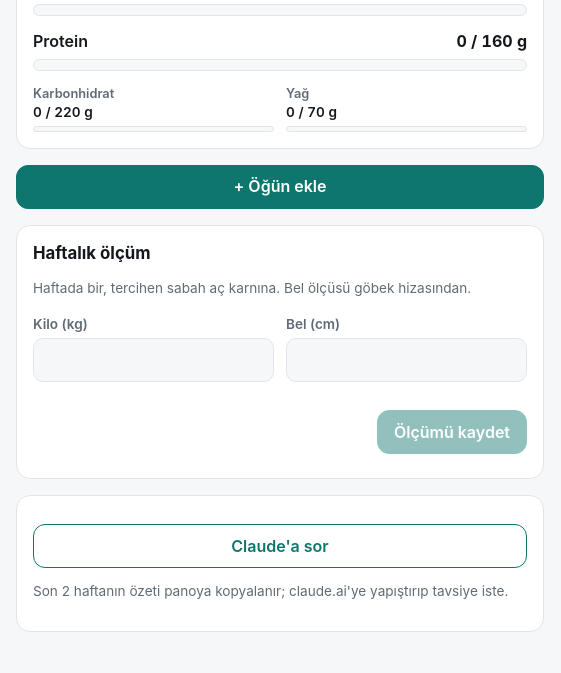
Test: akla yatkın olmayan kilo kaydedilemez ve uyarı gösterilir
(page scrolled)
Expected: the heading "Haftalık ölçüm" is shown, [33, 243, 150, 263]
Type "785" into the field labelled "Kilo (kg)".
click(154, 360); type("785")  # box [33, 338, 274, 382]
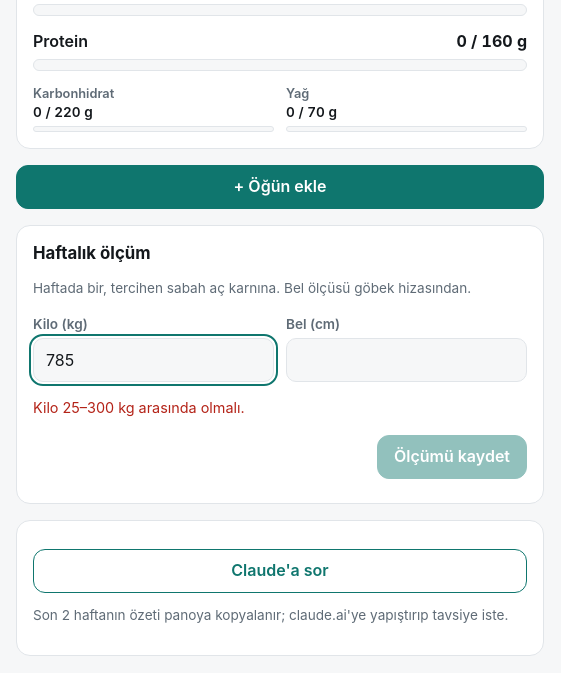
Expected: the button "Ölçümü kaydet" is disabled, [377, 434, 527, 478]
Result: the text "Kilo 25–300 kg arasında olmalı." is shown at [33, 399, 245, 416]
